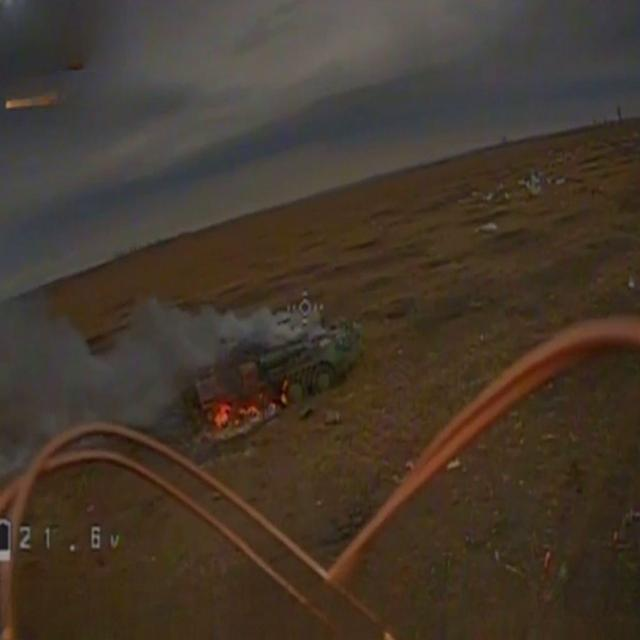APC: (193, 310, 366, 444)
